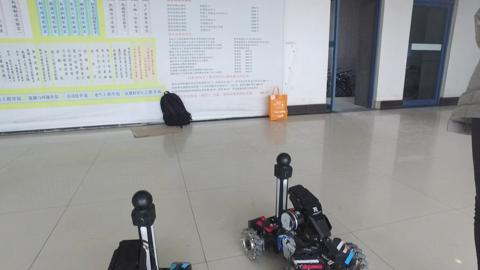bag: (258, 82, 299, 129), (153, 86, 195, 130)
chariot: (234, 146, 376, 270)
